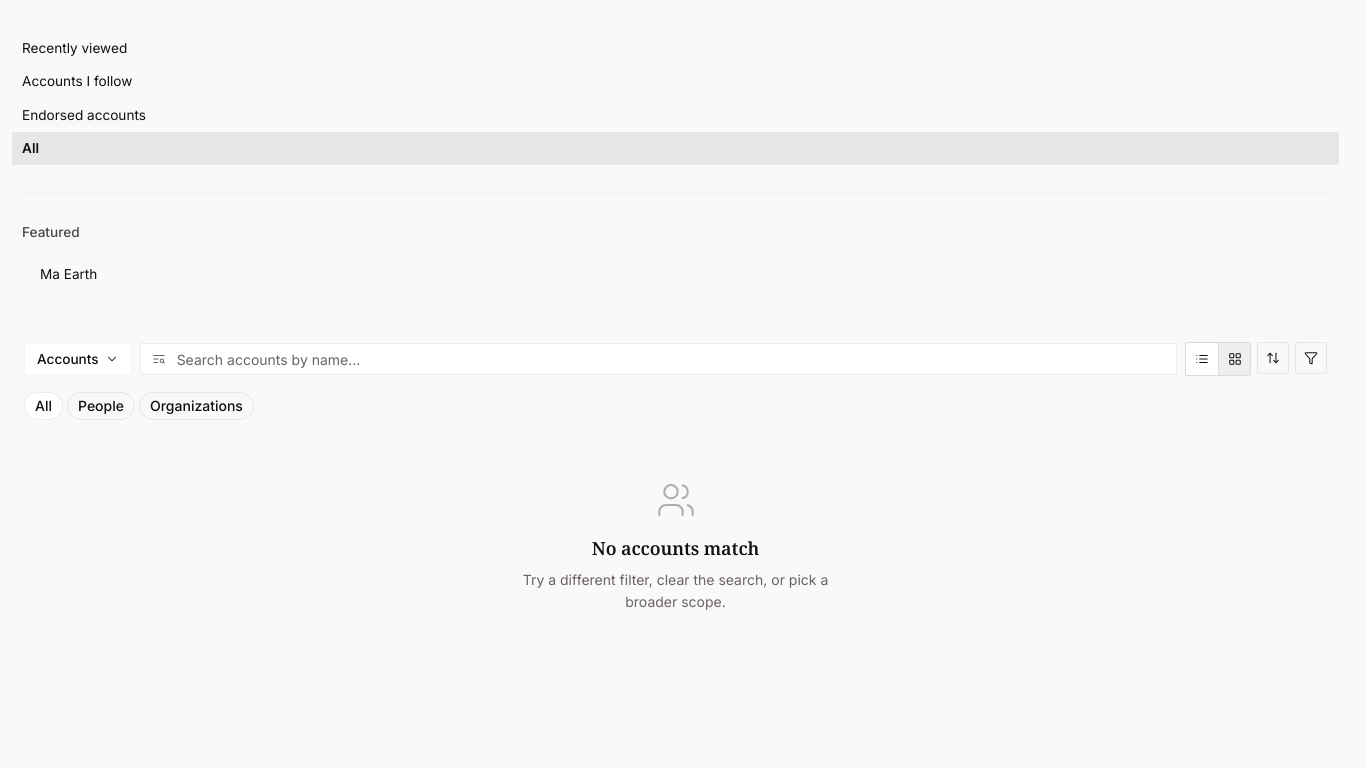
it: Explore Sort dropdown uses the canonical Popover › renders the sort options as role=menuitemradio
This screenshot has width=1366, height=768.
Click the button named "Sort". click: (1273, 358)
box: x1=1257 y1=342 x2=1289 y2=374
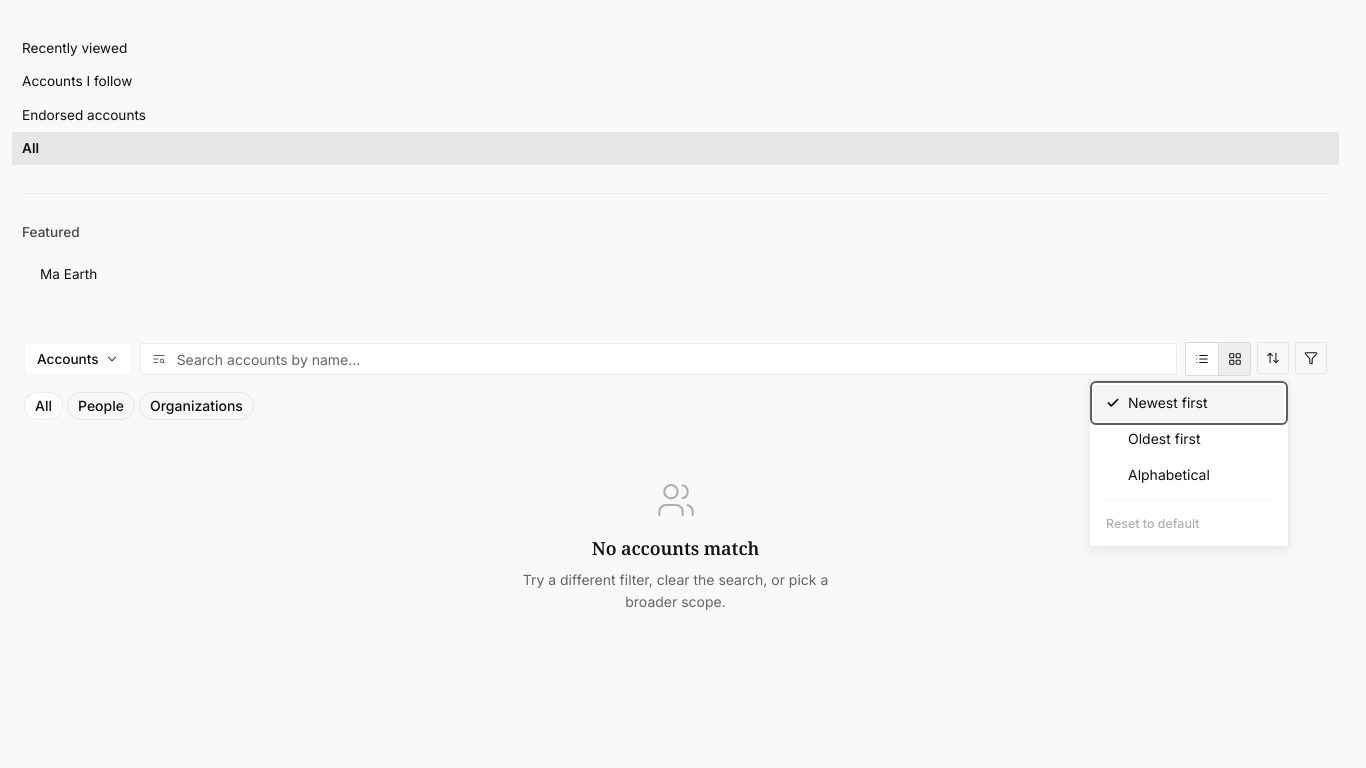
Expected: the text "Newest first" is shown, x1=1128 y1=394 x2=1208 y2=411
Expected: the text "Oldest first" is shown, x1=1128 y1=430 x2=1201 y2=447
Expected: the text "Alphabetical" is shown, x1=1128 y1=466 x2=1210 y2=483
